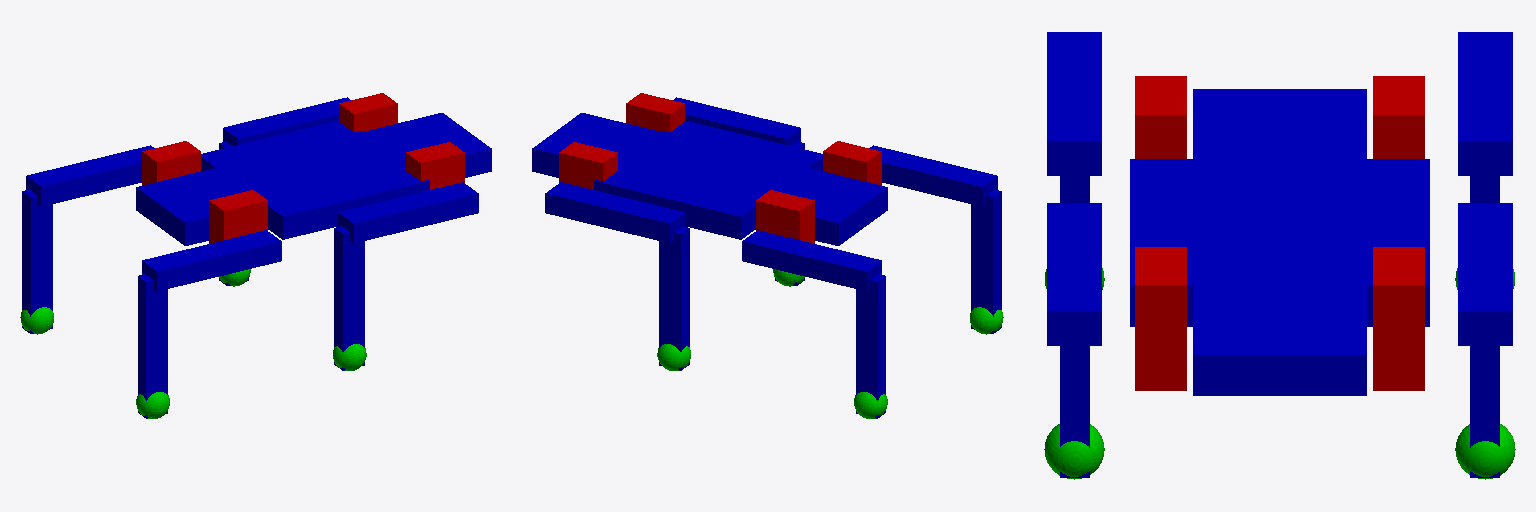
robot.urdf — quadrus:
<?xml version="1.0" ?>
<!-- =================================================================================== -->
<!-- |    This document was autogenerated by xacro from quadrus.xacro                  | -->
<!-- |    EDITING THIS FILE BY HAND IS NOT RECOMMENDED                                 | -->
<!-- =================================================================================== -->
<robot name="quadrus">
  <material name="black">
    <color rgba="0.0 0.0 0.0 1.0"/>
  </material>
  <material name="blue">
    <color rgba="0.0 0.0 0.8 1.0"/>
  </material>
  <material name="green">
    <color rgba="0.0 0.8 0.0 1.0"/>
  </material>
  <material name="grey">
    <color rgba="0.2 0.2 0.2 1.0"/>
  </material>
  <material name="orange">
    <color rgba="1.0 0.4235294117647059 0.0392156862745098 1.0"/>
  </material>
  <material name="brown">
    <color rgba="0.8705882352941177 0.8117647058823529 0.7647058823529411 1.0"/>
  </material>
  <material name="red">
    <color rgba="0.8 0.0 0.0 1.0"/>
  </material>
  <material name="white">
    <color rgba="1.0 1.0 1.0 1.0"/>
  </material>
  <!-- ros_control plugin -->
  <gazebo>
    <plugin filename="libgazebo_ros_control.so" name="gazebo_ros_control">
      <robotNamespace>/quadrus</robotNamespace>
      <robotSimType>gazebo_ros_control/DefaultRobotHWSim</robotSimType>
    </plugin>
  </gazebo>
  <gazebo reference="base_link">
    <material>Gazebo/Blue</material>
    <pose>0 0 1 0 0 0 </pose>
  </gazebo>
  <!-- Used for fixing robot to Gazebo 'base_link' -->
  <link name="world"/>
  <joint name="fixed" type="fixed">
    <parent link="world"/>
    <child link="base_link"/>
    <origin xyz="0 0 1"/>
  </joint>
  <link name="base_link">
    <visual>
      <origin rpy="0 0 0" xyz="0 0 0"/>
      <geometry>
        <box size="0.4172 0.116 0.03035"/>
      </geometry>
      <material name="blue"/>
    </visual>
    <visual>
      <origin rpy="0 0 0" xyz="0 0 0"/>
      <geometry>
        <box size="0.2 0.2 0.03035"/>
      </geometry>
      <material name="blue"/>
    </visual>
    <collision>
      <origin rpy="0 0 0" xyz="0 0 0"/>
      <geometry>
        <box size="0.4172 0.116 0.03035"/>
      </geometry>
    </collision>
    <inertial>
      <mass value="0.500"/>
      <inertia ixx="0.00093" ixy="0.0" ixz="0.0" iyy="0.00458" iyz="0.0" izz="0.00540"/>
    </inertial>
  </link>
  <link name="link_front_left_hip">
    <visual>
      <origin rpy="0 0 0" xyz="0 0 0"/>
      <geometry>
        <box size="0.060 0.035 0.078"/>
      </geometry>
      <material name="red"/>
    </visual>
    <collision>
      <origin rpy="0 0 0" xyz="0 0 0"/>
      <geometry>
        <box size="0.060 0.035 0.078"/>
      </geometry>
    </collision>
    <inertial>
      <mass value="0.332"/>
      <inertia ixx="0.00109" ixy="0.0" ixz="-0.00004" iyy="0.00146" iyz="-0.00039" izz="0.00066"/>
    </inertial>
  </link>
  <joint name="J1" type="continuous">
    <parent link="base_link"/>
    <child link="link_front_left_hip"/>
    <origin rpy="0 0 0" xyz="0.12000000000000002 0.079 0"/>
    <axis xyz="1 0 0"/>
  </joint>
  <transmission name="transmission_front_left_hip">
    <type>transmission_interface/SimpleTransmission</type>
    <joint name="J1">
      <hardwareInterface>hardware_interface/EffortJointInterface</hardwareInterface>
    </joint>
    <actuator name="motor_front_left_hip">
      <mechanicalReduction>1</mechanicalReduction>
      <hardwareInterface>hardware_interface/EffortJointInterface</hardwareInterface>
    </actuator>
  </transmission>
  <gazebo reference="link_front_left_hip">
    <material>Gazebo/Red</material>
  </gazebo>
  <link name="link_front_left_upperleg">
    <visual>
      <origin rpy="0 0 0" xyz="-0.07 0 0"/>
      <geometry>
        <box size="0.17 0.0365 0.026"/>
      </geometry>
      <material name="blue"/>
    </visual>
    <collision>
      <origin rpy="0 0 0" xyz="-0.07 0 0"/>
      <geometry>
        <box size="0.17  0.0365 0.026"/>
      </geometry>
    </collision>
    <inertial>
      <mass value="0.32114"/>
      <inertia ixx="0.00014" ixy="0.00001" ixz="0.00002" iyy="0.00207" iyz="0.0" izz="0.00215"/>
    </inertial>
  </link>
  <joint name="J2" type="continuous">
    <parent link="link_front_left_hip"/>
    <child link="link_front_left_upperleg"/>
    <origin rpy="0 0 0" xyz="0 0.05755 0"/>
    <axis xyz="0 1 0"/>
  </joint>
  <transmission name="transmission_front_left_upperleg">
    <type>transmission_interface/SimpleTransmission</type>
    <joint name="J2">
      <hardwareInterface>hardware_interface/EffortJointInterface</hardwareInterface>
    </joint>
    <actuator name="motor_front_left_upperleg">
      <mechanicalReduction>1</mechanicalReduction>
      <hardwareInterface>hardware_interface/EffortJointInterface</hardwareInterface>
    </actuator>
  </transmission>
  <gazebo reference="link_front_left_upperleg">
    <material>Gazebo/White</material>
  </gazebo>
  <link name="link_front_left_lowerleg">
    <visual>
      <origin rpy="0 0 0" xyz="0.075 0 0"/>
      <geometry>
        <box size="0.17833 0.02 0.03"/>
      </geometry>
      <material name="blue"/>
    </visual>
    <collision>
      <origin rpy="0 0 0" xyz="0.075 0 0"/>
      <geometry>
        <box size="0.17833 0.02 0.03"/>
      </geometry>
    </collision>
    <inertial>
      <mass value="0.20407"/>
      <inertia ixx="0.00005" ixy="0.00008" ixz="0.0" iyy="0.00121" iyz="0.0" izz="0.00123"/>
    </inertial>
  </link>
  <joint name="J3" type="continuous">
    <parent link="link_front_left_upperleg"/>
    <child link="link_front_left_lowerleg"/>
    <origin rpy="0 1.5708 0" xyz="-0.15 0 -0.0156"/>
    <axis xyz="0 1 0"/>
  </joint>
  <transmission name="transmission_front_left_lowerleg">
    <type>transmission_interface/SimpleTransmission</type>
    <joint name="J3">
      <hardwareInterface>hardware_interface/EffortJointInterface</hardwareInterface>
    </joint>
    <actuator name="motor_front_left_lowerleg">
      <mechanicalReduction>1</mechanicalReduction>
      <hardwareInterface>hardware_interface/EffortJointInterface</hardwareInterface>
    </actuator>
  </transmission>
  <gazebo reference="link_front_left_lowerleg">
    <material>Gazebo/White</material>
  </gazebo>
  <!-- Paw -->
  <link name="link_front_left_paw">
    <visual>
      <origin rpy="0 0 0" xyz="0 0 0"/>
      <geometry>
        <sphere radius="0.02"/>
      </geometry>
      <material name="green"/>
    </visual>
    <collision>
      <origin rpy="0 0 0" xyz="0 0 0"/>
      <geometry>
        <sphere radius="0.02"/>
      </geometry>
    </collision>
    <inertial>
      <mass value="0.0"/>
      <inertia ixx="0.0" ixy="0.0" ixz="0.0" iyy="0.0" iyz="0.0" izz="0.0"/>
    </inertial>
  </link>
  <joint name="joint_front_left_paw" type="fixed">
    <parent link="link_front_left_lowerleg"/>
    <child link="link_front_left_paw"/>
    <origin rpy="0 0 0" xyz="0.15 0 0"/>
  </joint>
  <gazebo reference="link_front_left_paw">
    <material>Gazebo/Green</material>
  </gazebo>
  <link name="link_front_right_hip">
    <visual>
      <origin rpy="0 0 0" xyz="0 0 0"/>
      <geometry>
        <box size="0.060 0.035 0.078"/>
      </geometry>
      <material name="red"/>
    </visual>
    <collision>
      <origin rpy="0 0 0" xyz="0 0 0"/>
      <geometry>
        <box size="0.060 0.035 0.078"/>
      </geometry>
    </collision>
    <inertial>
      <mass value="0.332"/>
      <inertia ixx="0.00109" ixy="0.0" ixz="-0.00004" iyy="0.00146" iyz="-0.00039" izz="0.00066"/>
    </inertial>
  </link>
  <joint name="J4" type="continuous">
    <parent link="base_link"/>
    <child link="link_front_right_hip"/>
    <origin rpy="0 0 0" xyz="0.12000000000000002 -0.079 0"/>
    <axis xyz="1 0 0"/>
  </joint>
  <transmission name="transmission_front_right_hip">
    <type>transmission_interface/SimpleTransmission</type>
    <joint name="J4">
      <hardwareInterface>hardware_interface/EffortJointInterface</hardwareInterface>
    </joint>
    <actuator name="motor_front_right_hip">
      <mechanicalReduction>1</mechanicalReduction>
      <hardwareInterface>hardware_interface/EffortJointInterface</hardwareInterface>
    </actuator>
  </transmission>
  <gazebo reference="link_front_right_hip">
    <material>Gazebo/Red</material>
  </gazebo>
  <link name="link_front_right_upperleg">
    <visual>
      <origin rpy="0 0 0" xyz="-0.07 0 0"/>
      <geometry>
        <box size="0.17 0.0365 0.026"/>
      </geometry>
      <material name="blue"/>
    </visual>
    <collision>
      <origin rpy="0 0 0" xyz="-0.07 0 0"/>
      <geometry>
        <box size="0.17  0.0365 0.026"/>
      </geometry>
    </collision>
    <inertial>
      <mass value="0.32114"/>
      <inertia ixx="0.00014" ixy="0.00001" ixz="0.00002" iyy="0.00207" iyz="0.0" izz="0.00215"/>
    </inertial>
  </link>
  <joint name="J5" type="continuous">
    <parent link="link_front_right_hip"/>
    <child link="link_front_right_upperleg"/>
    <origin rpy="0 0 0" xyz="0 -0.05755 0"/>
    <axis xyz="0 1 0"/>
  </joint>
  <transmission name="transmission_front_right_upperleg">
    <type>transmission_interface/SimpleTransmission</type>
    <joint name="J5">
      <hardwareInterface>hardware_interface/EffortJointInterface</hardwareInterface>
    </joint>
    <actuator name="motor_front_right_upperleg">
      <mechanicalReduction>1</mechanicalReduction>
      <hardwareInterface>hardware_interface/EffortJointInterface</hardwareInterface>
    </actuator>
  </transmission>
  <gazebo reference="link_front_right_upperleg">
    <material>Gazebo/White</material>
  </gazebo>
  <link name="link_front_right_lowerleg">
    <visual>
      <origin rpy="0 0 0" xyz="0.075 0 0"/>
      <geometry>
        <box size="0.17833 0.02 0.03"/>
      </geometry>
      <material name="blue"/>
    </visual>
    <collision>
      <origin rpy="0 0 0" xyz="0.075 0 0"/>
      <geometry>
        <box size="0.17833 0.02 0.03"/>
      </geometry>
    </collision>
    <inertial>
      <mass value="0.20407"/>
      <inertia ixx="0.00005" ixy="0.00008" ixz="0.0" iyy="0.00121" iyz="0.0" izz="0.00123"/>
    </inertial>
  </link>
  <joint name="J6" type="continuous">
    <parent link="link_front_right_upperleg"/>
    <child link="link_front_right_lowerleg"/>
    <origin rpy="0 1.5708 0" xyz="-0.15 0 -0.0156"/>
    <axis xyz="0 1 0"/>
  </joint>
  <transmission name="transmission_front_right_lowerleg">
    <type>transmission_interface/SimpleTransmission</type>
    <joint name="J6">
      <hardwareInterface>hardware_interface/EffortJointInterface</hardwareInterface>
    </joint>
    <actuator name="motor_front_right_lowerleg">
      <mechanicalReduction>1</mechanicalReduction>
      <hardwareInterface>hardware_interface/EffortJointInterface</hardwareInterface>
    </actuator>
  </transmission>
  <gazebo reference="link_front_right_lowerleg">
    <material>Gazebo/White</material>
  </gazebo>
  <!-- Paw -->
  <link name="link_front_right_paw">
    <visual>
      <origin rpy="0 0 0" xyz="0 0 0"/>
      <geometry>
        <sphere radius="0.02"/>
      </geometry>
      <material name="green"/>
    </visual>
    <collision>
      <origin rpy="0 0 0" xyz="0 0 0"/>
      <geometry>
        <sphere radius="0.02"/>
      </geometry>
    </collision>
    <inertial>
      <mass value="0.0"/>
      <inertia ixx="0.0" ixy="0.0" ixz="0.0" iyy="0.0" iyz="0.0" izz="0.0"/>
    </inertial>
  </link>
  <joint name="joint_front_right_paw" type="fixed">
    <parent link="link_front_right_lowerleg"/>
    <child link="link_front_right_paw"/>
    <origin rpy="0 0 0" xyz="0.15 0 0"/>
  </joint>
  <gazebo reference="link_front_right_paw">
    <material>Gazebo/Green</material>
  </gazebo>
  <link name="link_back_left_hip">
    <visual>
      <origin rpy="0 0 0" xyz="0 0 0"/>
      <geometry>
        <box size="0.060 0.035 0.078"/>
      </geometry>
      <material name="red"/>
    </visual>
    <collision>
      <origin rpy="0 0 0" xyz="0 0 0"/>
      <geometry>
        <box size="0.060 0.035 0.078"/>
      </geometry>
    </collision>
    <inertial>
      <mass value="0.332"/>
      <inertia ixx="0.00109" ixy="0.0" ixz="-0.00004" iyy="0.00146" iyz="-0.00039" izz="0.00066"/>
    </inertial>
  </link>
  <joint name="J7" type="continuous">
    <parent link="base_link"/>
    <child link="link_back_left_hip"/>
    <origin rpy="0 0 0" xyz="-0.148 0.079 0"/>
    <axis xyz="1 0 0"/>
  </joint>
  <transmission name="transmission_back_left_hip">
    <type>transmission_interface/SimpleTransmission</type>
    <joint name="J7">
      <hardwareInterface>hardware_interface/EffortJointInterface</hardwareInterface>
    </joint>
    <actuator name="motor_back_left_hip">
      <mechanicalReduction>1</mechanicalReduction>
      <hardwareInterface>hardware_interface/EffortJointInterface</hardwareInterface>
    </actuator>
  </transmission>
  <gazebo reference="link_back_left_hip">
    <material>Gazebo/Red</material>
  </gazebo>
  <link name="link_back_left_upperleg">
    <visual>
      <origin rpy="0 0 0" xyz="-0.07 0 0"/>
      <geometry>
        <box size="0.17 0.0365 0.026"/>
      </geometry>
      <material name="blue"/>
    </visual>
    <collision>
      <origin rpy="0 0 0" xyz="-0.07 0 0"/>
      <geometry>
        <box size="0.17  0.0365 0.026"/>
      </geometry>
    </collision>
    <inertial>
      <mass value="0.32114"/>
      <inertia ixx="0.00014" ixy="0.00001" ixz="0.00002" iyy="0.00207" iyz="0.0" izz="0.00215"/>
    </inertial>
  </link>
  <joint name="J8" type="continuous">
    <parent link="link_back_left_hip"/>
    <child link="link_back_left_upperleg"/>
    <origin rpy="0 0 0" xyz="0 0.05755 0"/>
    <axis xyz="0 1 0"/>
  </joint>
  <transmission name="transmission_back_left_upperleg">
    <type>transmission_interface/SimpleTransmission</type>
    <joint name="J8">
      <hardwareInterface>hardware_interface/EffortJointInterface</hardwareInterface>
    </joint>
    <actuator name="motor_back_left_upperleg">
      <mechanicalReduction>1</mechanicalReduction>
      <hardwareInterface>hardware_interface/EffortJointInterface</hardwareInterface>
    </actuator>
  </transmission>
  <gazebo reference="link_back_left_upperleg">
    <material>Gazebo/White</material>
  </gazebo>
  <link name="link_back_left_lowerleg">
    <visual>
      <origin rpy="0 0 0" xyz="0.075 0 0"/>
      <geometry>
        <box size="0.17833 0.02 0.03"/>
      </geometry>
      <material name="blue"/>
    </visual>
    <collision>
      <origin rpy="0 0 0" xyz="0.075 0 0"/>
      <geometry>
        <box size="0.17833 0.02 0.03"/>
      </geometry>
    </collision>
    <inertial>
      <mass value="0.20407"/>
      <inertia ixx="0.00005" ixy="0.00008" ixz="0.0" iyy="0.00121" iyz="0.0" izz="0.00123"/>
    </inertial>
  </link>
  <joint name="J9" type="continuous">
    <parent link="link_back_left_upperleg"/>
    <child link="link_back_left_lowerleg"/>
    <origin rpy="0 1.5708 0" xyz="-0.15 0 -0.0156"/>
    <axis xyz="0 1 0"/>
  </joint>
  <transmission name="transmission_back_left_lowerleg">
    <type>transmission_interface/SimpleTransmission</type>
    <joint name="J9">
      <hardwareInterface>hardware_interface/EffortJointInterface</hardwareInterface>
    </joint>
    <actuator name="motor_back_left_lowerleg">
      <mechanicalReduction>1</mechanicalReduction>
      <hardwareInterface>hardware_interface/EffortJointInterface</hardwareInterface>
    </actuator>
  </transmission>
  <gazebo reference="link_back_left_lowerleg">
    <material>Gazebo/White</material>
  </gazebo>
  <!-- Paw -->
  <link name="link_back_left_paw">
    <visual>
      <origin rpy="0 0 0" xyz="0 0 0"/>
      <geometry>
        <sphere radius="0.02"/>
      </geometry>
      <material name="green"/>
    </visual>
    <collision>
      <origin rpy="0 0 0" xyz="0 0 0"/>
      <geometry>
        <sphere radius="0.02"/>
      </geometry>
    </collision>
    <inertial>
      <mass value="0.0"/>
      <inertia ixx="0.0" ixy="0.0" ixz="0.0" iyy="0.0" iyz="0.0" izz="0.0"/>
    </inertial>
  </link>
  <joint name="joint_back_left_paw" type="fixed">
    <parent link="link_back_left_lowerleg"/>
    <child link="link_back_left_paw"/>
    <origin rpy="0 0 0" xyz="0.15 0 0"/>
  </joint>
  <gazebo reference="link_back_left_paw">
    <material>Gazebo/Green</material>
  </gazebo>
  <link name="link_back_right_hip">
    <visual>
      <origin rpy="0 0 0" xyz="0 0 0"/>
      <geometry>
        <box size="0.060 0.035 0.078"/>
      </geometry>
      <material name="red"/>
    </visual>
    <collision>
      <origin rpy="0 0 0" xyz="0 0 0"/>
      <geometry>
        <box size="0.060 0.035 0.078"/>
      </geometry>
    </collision>
    <inertial>
      <mass value="0.332"/>
      <inertia ixx="0.00109" ixy="0.0" ixz="-0.00004" iyy="0.00146" iyz="-0.00039" izz="0.00066"/>
    </inertial>
  </link>
  <joint name="J10" type="continuous">
    <parent link="base_link"/>
    <child link="link_back_right_hip"/>
    <origin rpy="0 0 0" xyz="-0.148 -0.079 0"/>
    <axis xyz="1 0 0"/>
  </joint>
  <transmission name="transmission_back_right_hip">
    <type>transmission_interface/SimpleTransmission</type>
    <joint name="J10">
      <hardwareInterface>hardware_interface/EffortJointInterface</hardwareInterface>
    </joint>
    <actuator name="motor_back_right_hip">
      <mechanicalReduction>1</mechanicalReduction>
      <hardwareInterface>hardware_interface/EffortJointInterface</hardwareInterface>
    </actuator>
  </transmission>
  <gazebo reference="link_back_right_hip">
    <material>Gazebo/Red</material>
  </gazebo>
  <link name="link_back_right_upperleg">
    <visual>
      <origin rpy="0 0 0" xyz="-0.07 0 0"/>
      <geometry>
        <box size="0.17 0.0365 0.026"/>
      </geometry>
      <material name="blue"/>
    </visual>
    <collision>
      <origin rpy="0 0 0" xyz="-0.07 0 0"/>
      <geometry>
        <box size="0.17  0.0365 0.026"/>
      </geometry>
    </collision>
    <inertial>
      <mass value="0.32114"/>
      <inertia ixx="0.00014" ixy="0.00001" ixz="0.00002" iyy="0.00207" iyz="0.0" izz="0.00215"/>
    </inertial>
  </link>
  <joint name="J11" type="continuous">
    <parent link="link_back_right_hip"/>
    <child link="link_back_right_upperleg"/>
    <origin rpy="0 0 0" xyz="0 -0.05755 0"/>
    <axis xyz="0 1 0"/>
  </joint>
  <transmission name="transmission_back_right_upperleg">
    <type>transmission_interface/SimpleTransmission</type>
    <joint name="J11">
      <hardwareInterface>hardware_interface/EffortJointInterface</hardwareInterface>
    </joint>
    <actuator name="motor_back_right_upperleg">
      <mechanicalReduction>1</mechanicalReduction>
      <hardwareInterface>hardware_interface/EffortJointInterface</hardwareInterface>
    </actuator>
  </transmission>
  <gazebo reference="link_back_right_upperleg">
    <material>Gazebo/White</material>
  </gazebo>
  <link name="link_back_right_lowerleg">
    <visual>
      <origin rpy="0 0 0" xyz="0.075 0 0"/>
      <geometry>
        <box size="0.17833 0.02 0.03"/>
      </geometry>
      <material name="blue"/>
    </visual>
    <collision>
      <origin rpy="0 0 0" xyz="0.075 0 0"/>
      <geometry>
        <box size="0.17833 0.02 0.03"/>
      </geometry>
    </collision>
    <inertial>
      <mass value="0.20407"/>
      <inertia ixx="0.00005" ixy="0.00008" ixz="0.0" iyy="0.00121" iyz="0.0" izz="0.00123"/>
    </inertial>
  </link>
  <joint name="J12" type="continuous">
    <parent link="link_back_right_upperleg"/>
    <child link="link_back_right_lowerleg"/>
    <origin rpy="0 1.5708 0" xyz="-0.15 0 -0.0156"/>
    <axis xyz="0 1 0"/>
  </joint>
  <transmission name="transmission_back_right_lowerleg">
    <type>transmission_interface/SimpleTransmission</type>
    <joint name="J12">
      <hardwareInterface>hardware_interface/EffortJointInterface</hardwareInterface>
    </joint>
    <actuator name="motor_back_right_lowerleg">
      <mechanicalReduction>1</mechanicalReduction>
      <hardwareInterface>hardware_interface/EffortJointInterface</hardwareInterface>
    </actuator>
  </transmission>
  <gazebo reference="link_back_right_lowerleg">
    <material>Gazebo/White</material>
  </gazebo>
  <!-- Paw -->
  <link name="link_back_right_paw">
    <visual>
      <origin rpy="0 0 0" xyz="0 0 0"/>
      <geometry>
        <sphere radius="0.02"/>
      </geometry>
      <material name="green"/>
    </visual>
    <collision>
      <origin rpy="0 0 0" xyz="0 0 0"/>
      <geometry>
        <sphere radius="0.02"/>
      </geometry>
    </collision>
    <inertial>
      <mass value="0.0"/>
      <inertia ixx="0.0" ixy="0.0" ixz="0.0" iyy="0.0" iyz="0.0" izz="0.0"/>
    </inertial>
  </link>
  <joint name="joint_back_right_paw" type="fixed">
    <parent link="link_back_right_lowerleg"/>
    <child link="link_back_right_paw"/>
    <origin rpy="0 0 0" xyz="0.15 0 0"/>
  </joint>
  <gazebo reference="link_back_right_paw">
    <material>Gazebo/Green</material>
  </gazebo>
</robot>

--- Render facts (derived) ---
Views: 3 orthographic renders of the robot side by side, from view 1: azimuth 30°, elevation 25°; view 2: azimuth 150°, elevation 25°; view 3: azimuth 270°, elevation 25°.
Robot: quadrus — 18 links, 17 joints (12 continuous, 5 fixed); root link world; default pose: all joints at 0.
Visible links, largest first — view 1: base_link, link_front_right_upperleg, link_back_right_upperleg, link_back_left_upperleg, link_front_right_lowerleg, link_back_left_lowerleg, link_back_right_lowerleg, link_back_right_hip, link_front_left_upperleg, link_front_right_hip, link_back_left_hip, link_front_left_hip (+3 smaller); view 2: base_link, link_front_left_upperleg, link_back_left_upperleg, link_back_right_upperleg, link_front_left_lowerleg, link_back_right_lowerleg, link_back_left_lowerleg, link_back_left_hip, link_front_right_upperleg, link_front_left_hip, link_back_right_hip, link_front_right_hip (+3 smaller); view 3: base_link, link_back_left_upperleg, link_back_right_upperleg, link_front_left_upperleg, link_front_right_upperleg, link_front_left_hip, link_front_right_hip, link_back_left_hip, link_back_right_hip, link_front_left_lowerleg, link_front_right_lowerleg, link_front_left_paw (+3 smaller).
Boxes of the visible links, box(x1,y1,x2,y2) form: base_link: box(136, 113, 491, 245); link_front_right_upperleg: box(338, 182, 478, 243); link_back_right_upperleg: box(142, 230, 281, 291); link_back_left_upperleg: box(26, 145, 154, 206); link_front_right_lowerleg: box(334, 226, 364, 370); link_back_left_lowerleg: box(22, 189, 52, 333); link_back_right_lowerleg: box(138, 274, 167, 418); link_back_right_hip: box(209, 190, 267, 243); link_front_left_upperleg: box(223, 97, 350, 145); link_front_right_hip: box(406, 142, 464, 189); link_back_left_hip: box(142, 141, 200, 185); link_front_left_hip: box(339, 93, 397, 131); base_link: box(532, 113, 887, 245); link_front_left_upperleg: box(545, 182, 685, 243); link_back_left_upperleg: box(742, 230, 881, 291); link_back_right_upperleg: box(869, 145, 997, 206); link_front_left_lowerleg: box(659, 226, 689, 370); link_back_right_lowerleg: box(971, 189, 1001, 333); link_back_left_lowerleg: box(856, 274, 885, 418); link_back_left_hip: box(756, 190, 814, 243); link_front_right_upperleg: box(673, 97, 800, 145); link_front_left_hip: box(559, 142, 617, 189); link_back_right_hip: box(823, 141, 881, 185); link_front_right_hip: box(626, 93, 684, 131); base_link: box(1130, 89, 1429, 395); link_back_left_upperleg: box(1458, 32, 1512, 175); link_back_right_upperleg: box(1047, 32, 1101, 175); link_front_left_upperleg: box(1458, 203, 1512, 345); link_front_right_upperleg: box(1047, 203, 1101, 345); link_front_left_hip: box(1373, 247, 1424, 390); link_front_right_hip: box(1135, 247, 1186, 390); link_back_left_hip: box(1373, 76, 1424, 158); link_back_right_hip: box(1135, 76, 1186, 158); link_front_left_lowerleg: box(1470, 346, 1499, 477); link_front_right_lowerleg: box(1060, 346, 1089, 477); link_front_left_paw: box(1455, 424, 1515, 479).
Size in the robot's own frame: 0.5266 by 0.3131 by 0.2246 metres.
Geometry: primitives only (box / cylinder / sphere), no mesh files.